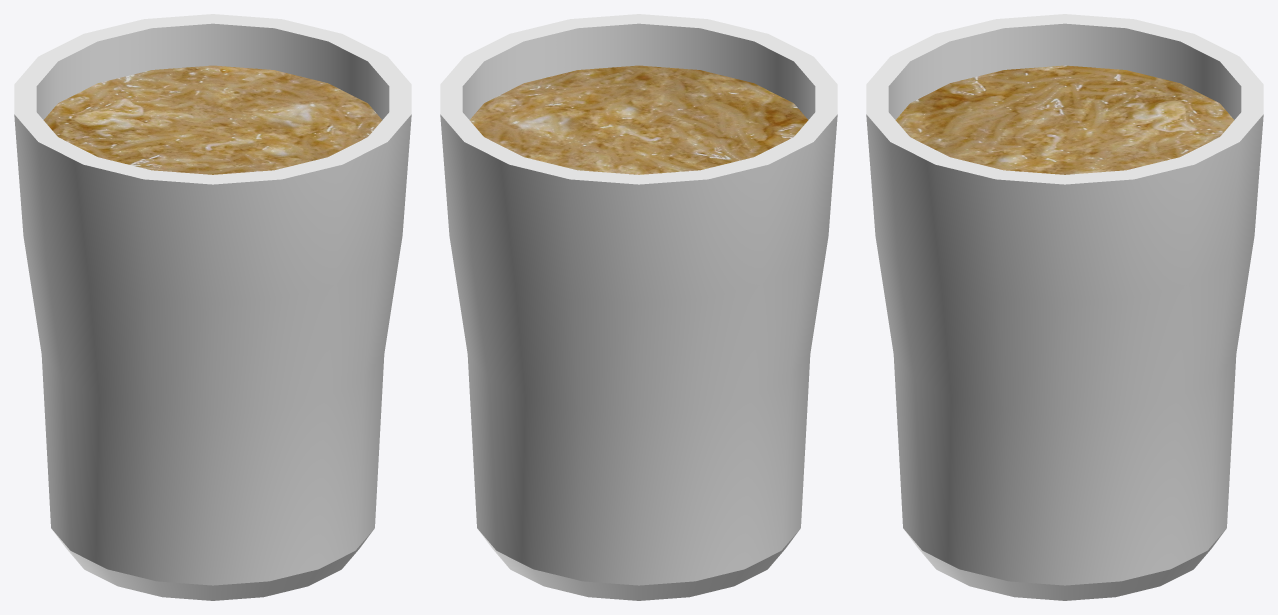
The model's file is Glass.FBX.
3 renders of one model, left to right at view 1: azimuth 30°, elevation 25°; view 2: azimuth 150°, elevation 25°; view 3: azimuth 270°, elevation 25°, orthographic.
Visible parts, largest first — view 1: Glass; view 2: Glass; view 3: Glass.
Part boxes in pixels (x1,y1,x2,y2): Glass: (14, 14, 411, 600); Glass: (440, 14, 837, 600); Glass: (866, 14, 1263, 600).
Size of the model in its own units: 7.84 by 9.41 by 7.72.
Materials: 1 (1 with a texture image).
